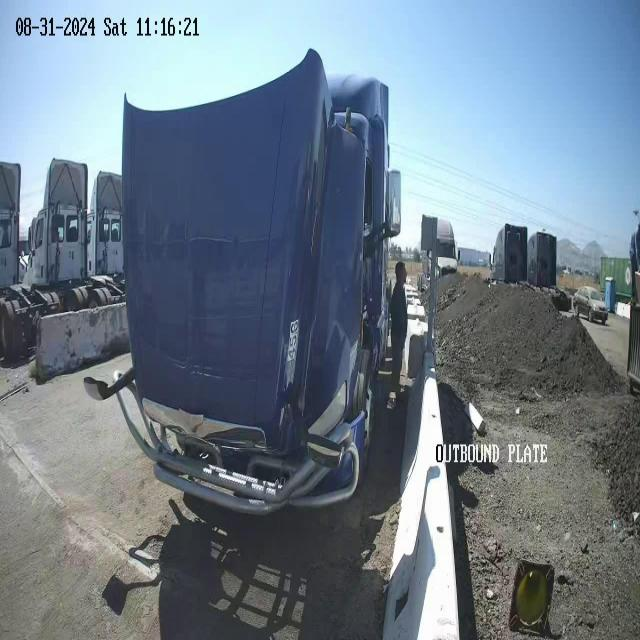TRUCK_OUT: (86, 47, 402, 517)
